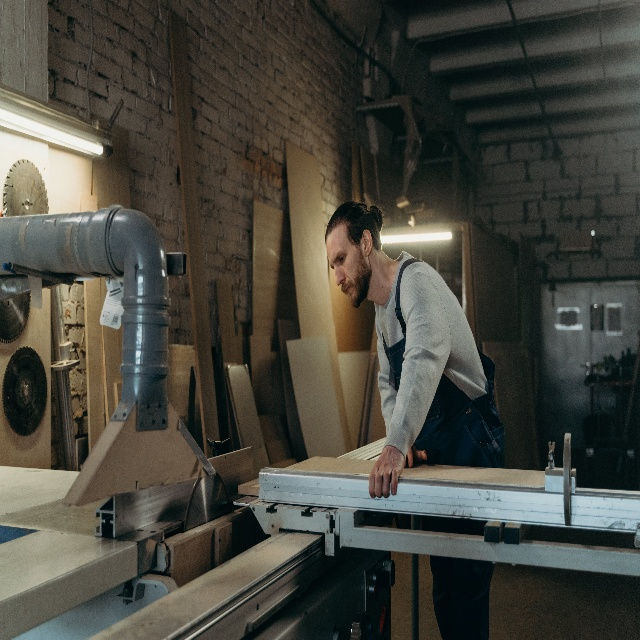Sin_guantes: (368, 444, 405, 499), (404, 444, 428, 468)
